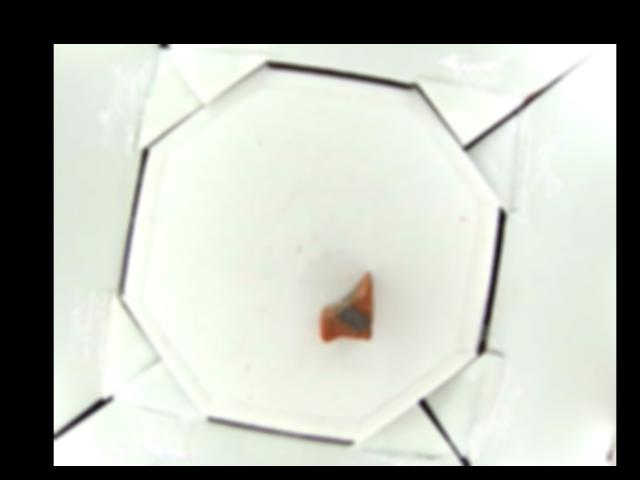Brisk: (319, 273, 372, 344)
